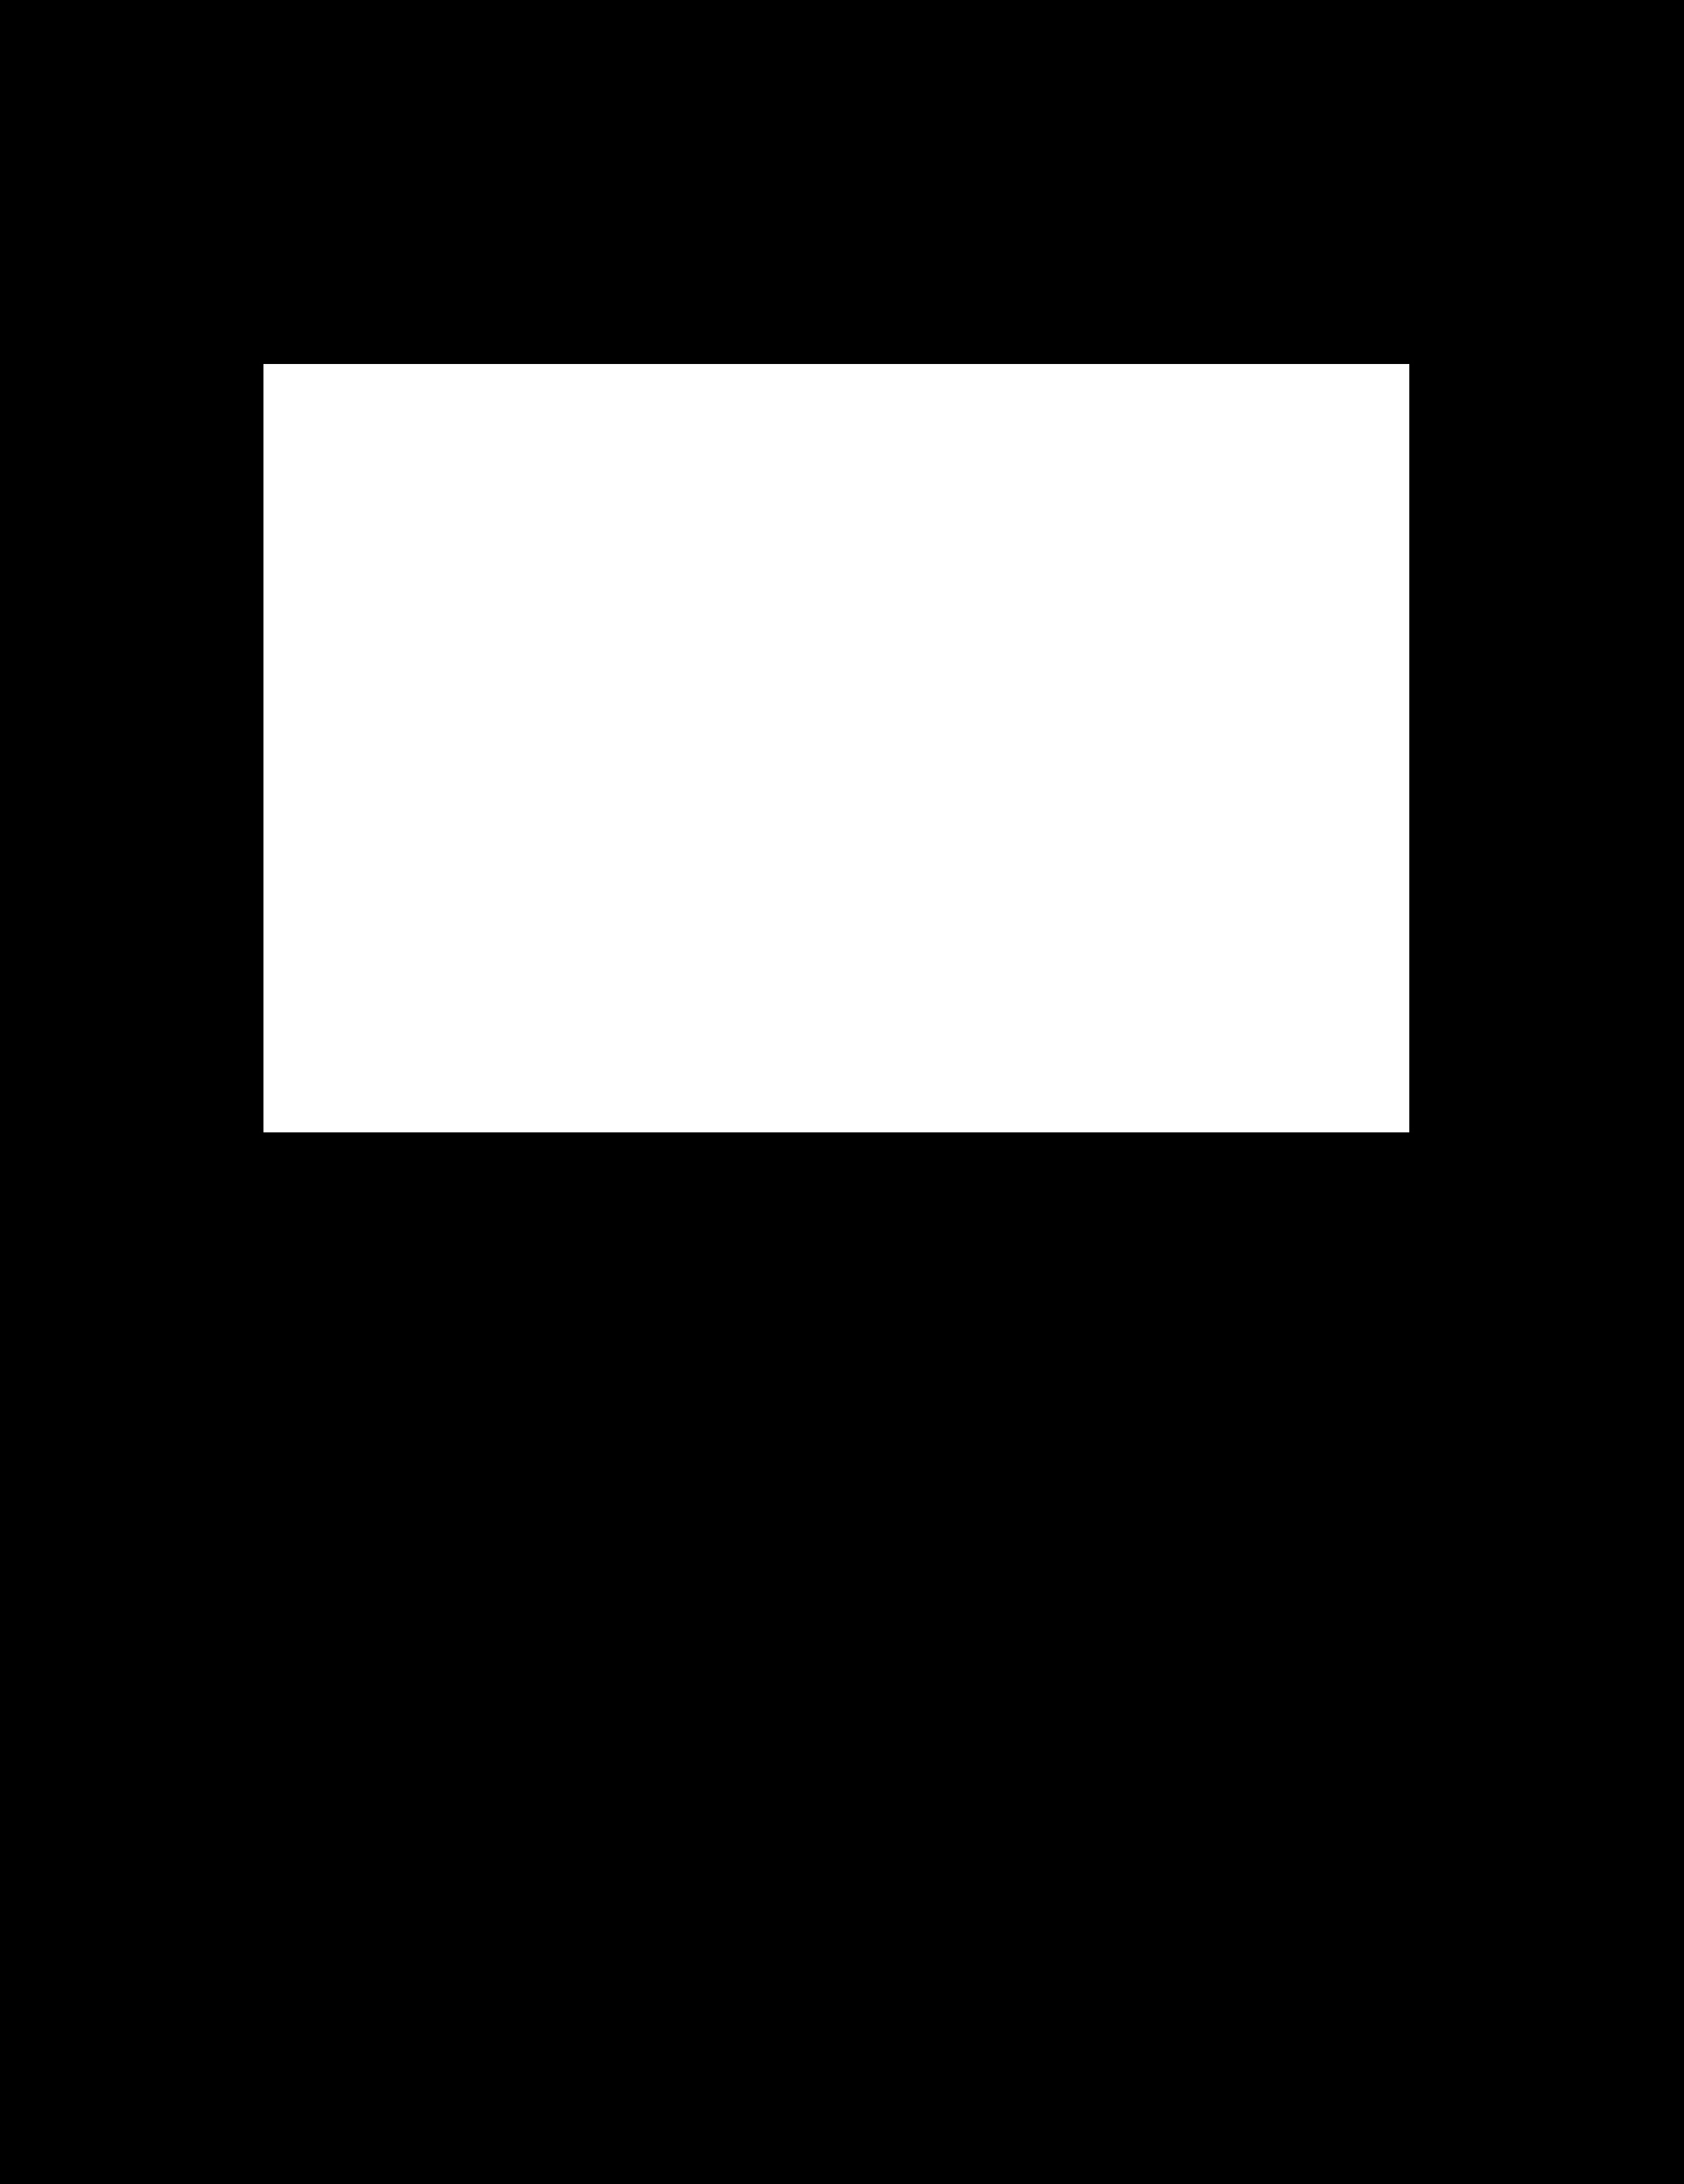table: (264, 364, 1408, 1132)
